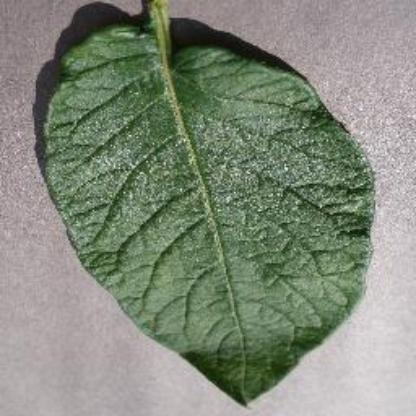Healthy-plant: (38, 3, 374, 399)
